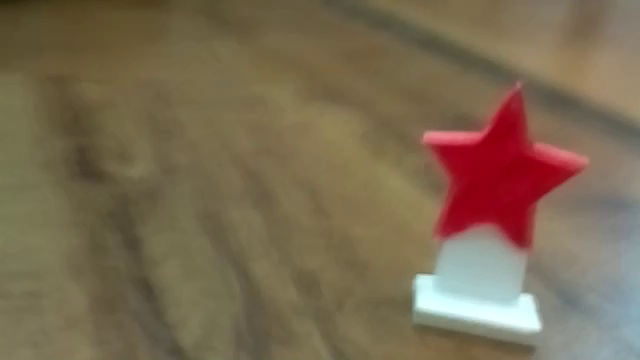star: (394, 74, 598, 352)
